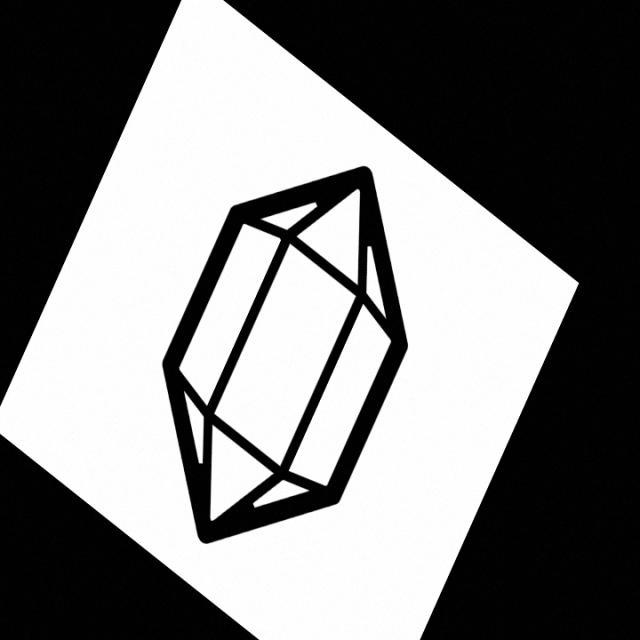crystal: (156, 159, 417, 554)
